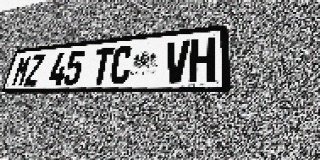4: (47, 52, 70, 86)
5: (62, 50, 86, 85)
C: (109, 45, 134, 84)
H: (188, 37, 216, 82)
M: (11, 55, 32, 87)
T: (90, 47, 115, 85)
V: (163, 40, 190, 83)
Z: (23, 54, 45, 86)
